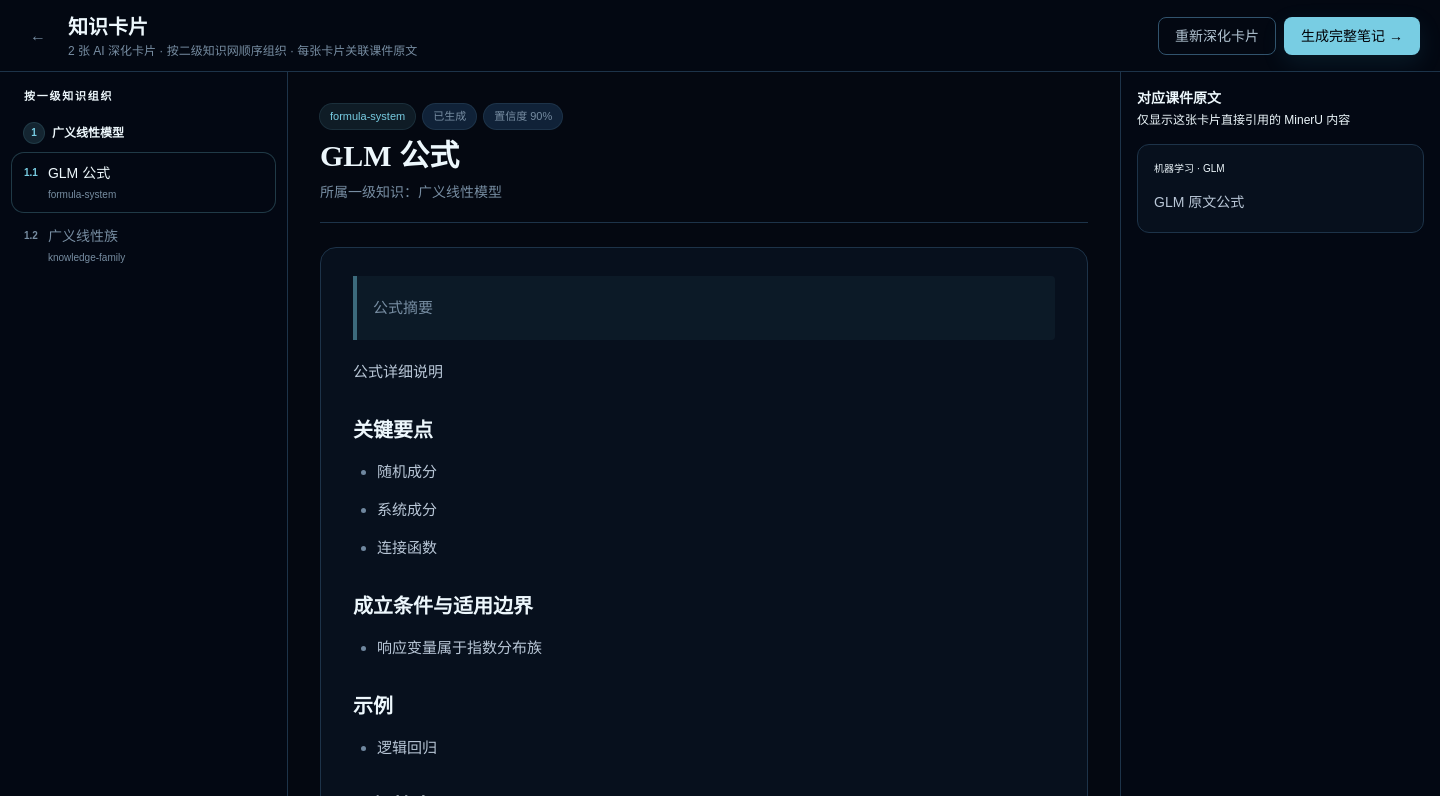
Scenario: KnowledgeCardsView › groups cards by first-layer topic and shows the selected card source
Click the button "1.2 广义线性族 knowledge-family" at (83, 236), box 12,216 -> 275,274
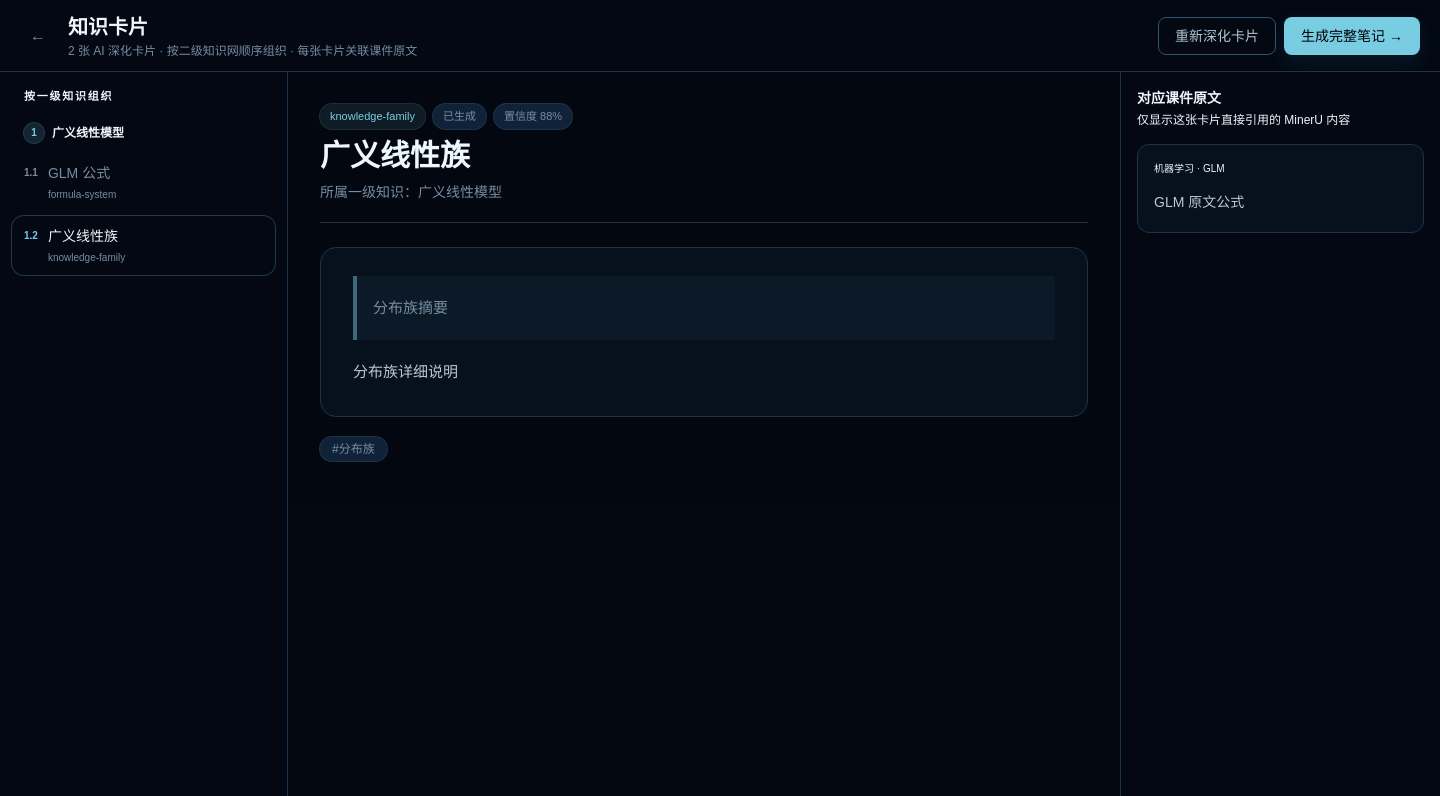
Expected: the text "GLM 原文公式" is shown, 1154,194 -> 1244,210
Expected: the text "分布族详细说明" is shown, 353,363 -> 458,380
